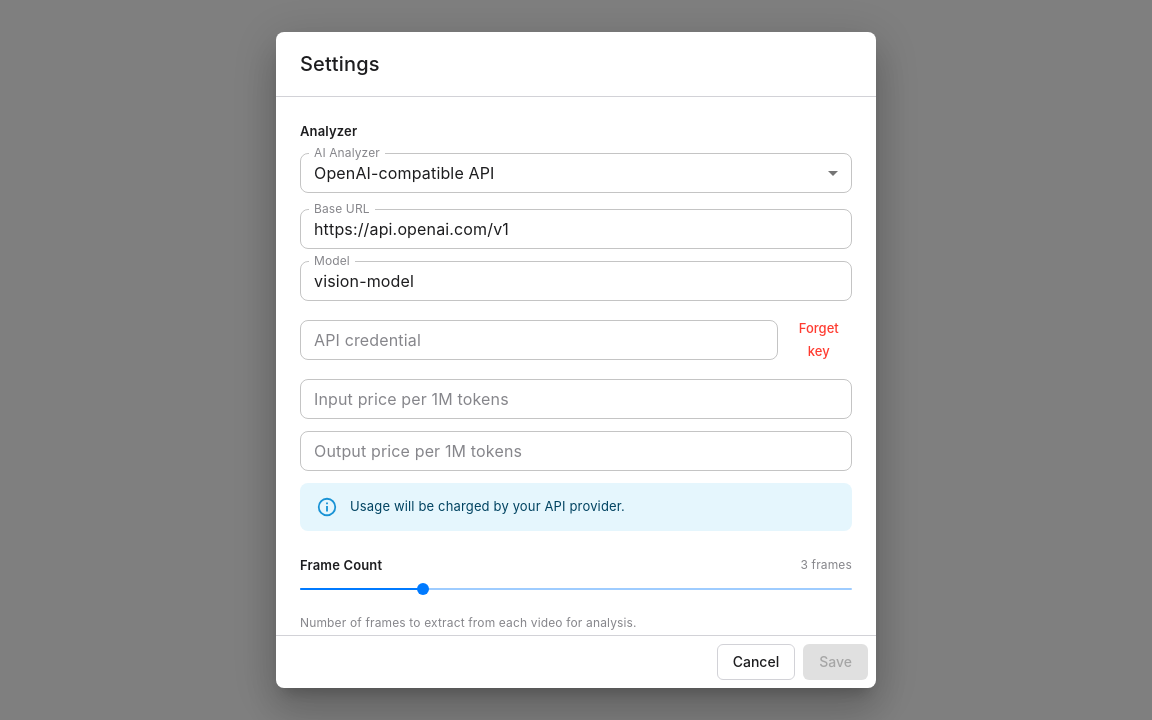
Test: settings modal › keeps the credential storage location visible after settings refresh
The image size is (1152, 720).
Type "secret" into the password field labelled "API credential" at [539, 340], box [300, 320, 778, 360]
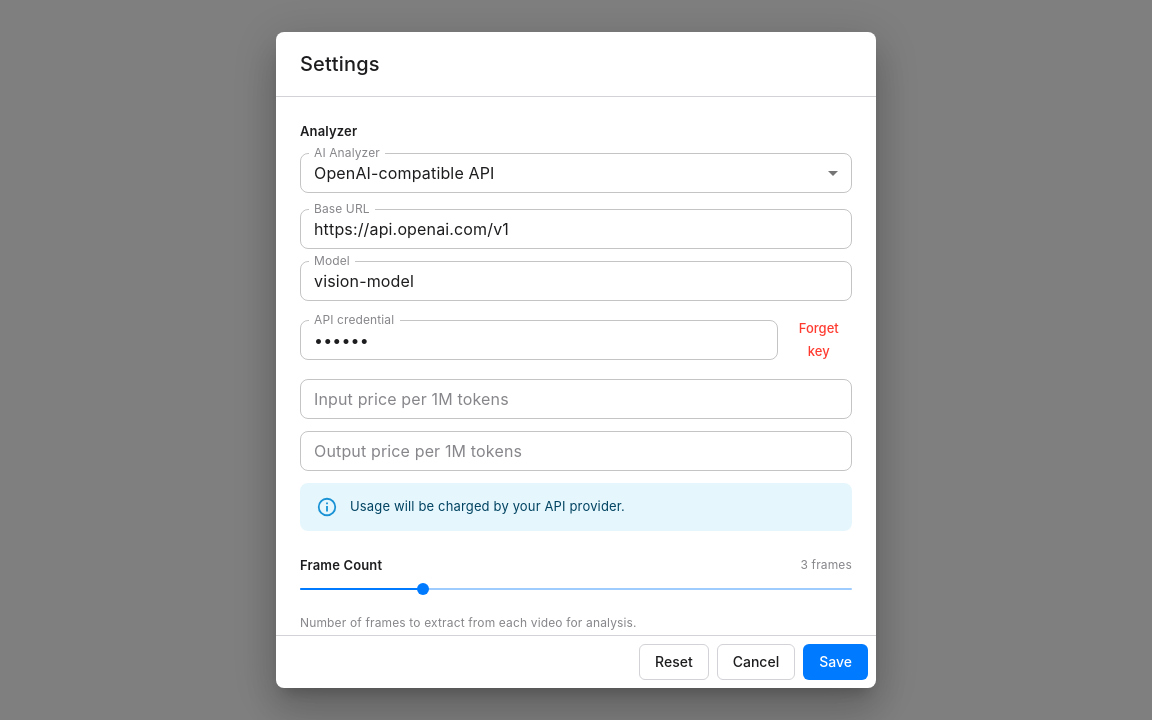
Click the button with test id "settings-save" at [836, 662], box [803, 644, 868, 680]
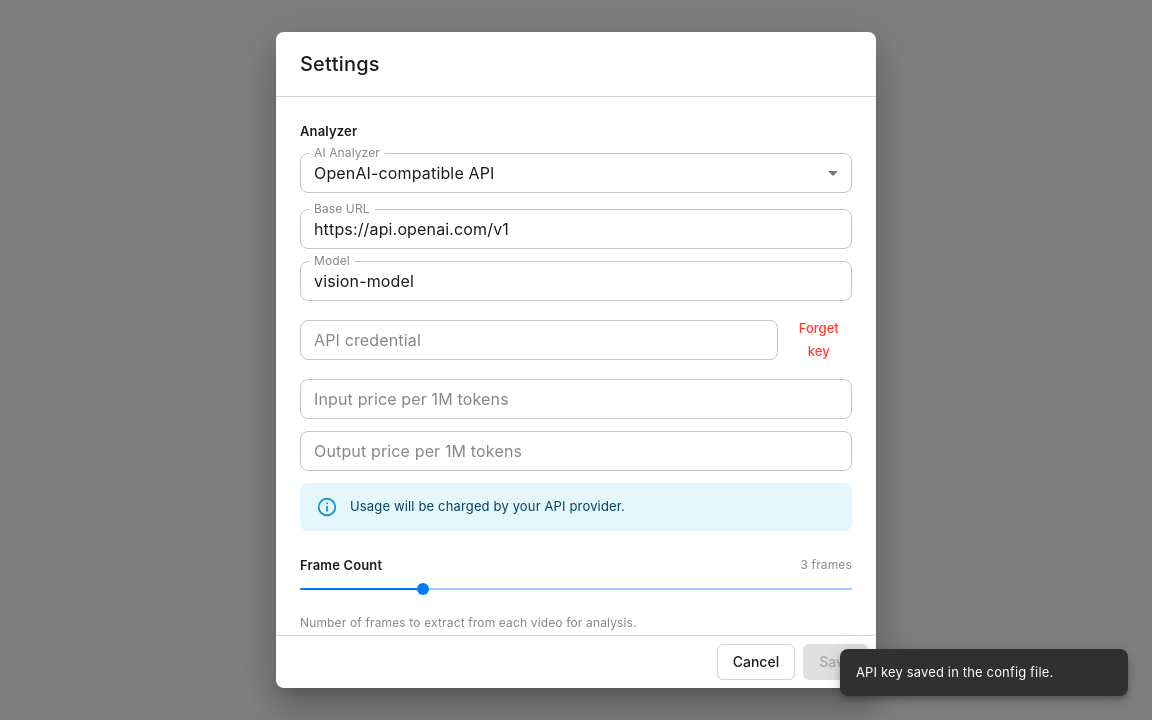
Check: the element with test id "saved-snackbar" reads "API key saved in the config file.", box [856, 664, 1053, 680]
